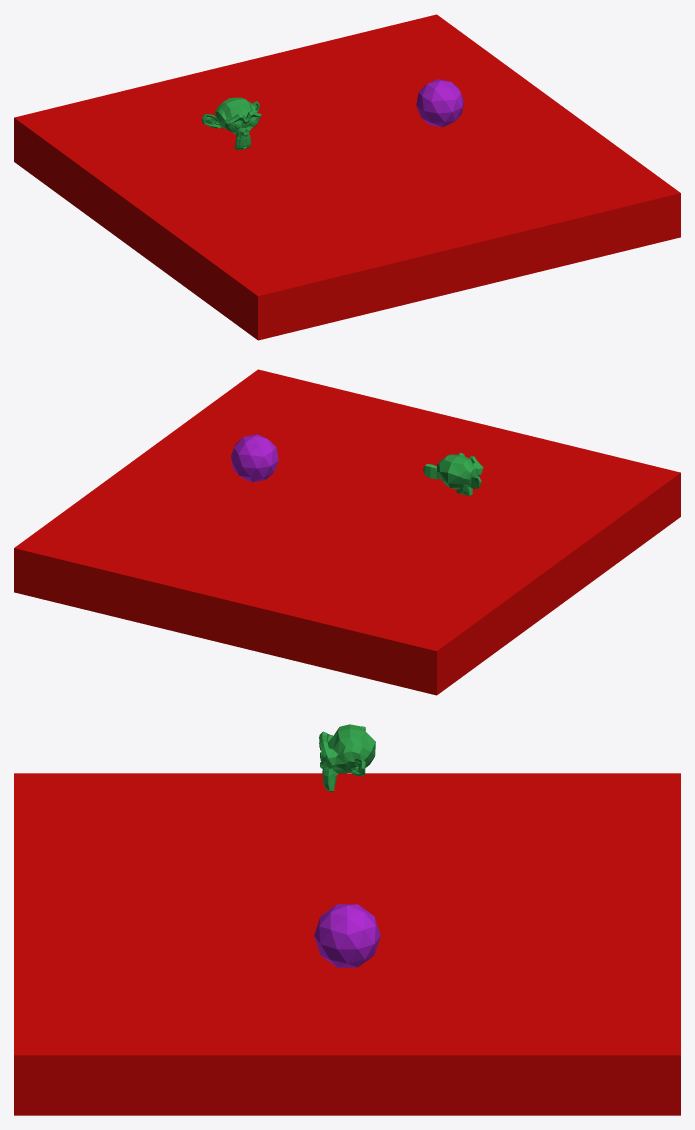
3 renders of one model, top to bottom at view 1: azimuth 30°, elevation 25°; view 2: azimuth 150°, elevation 25°; view 3: azimuth 270°, elevation 25°, orthographic. The views are drawn at different scales.
Visible parts, largest first — view 1: Cube_Cube.001, Icosphere, Suzanne; view 2: Cube_Cube.001, Icosphere, Suzanne; view 3: Cube_Cube.001, Icosphere, Suzanne.
Part boxes in pixels (x1,y1,x2,y2): Cube_Cube.001: [14, 14, 680, 340]; Icosphere: [416, 79, 463, 127]; Suzanne: [201, 97, 261, 149]; Cube_Cube.001: [14, 369, 680, 695]; Icosphere: [231, 434, 278, 482]; Suzanne: [423, 452, 483, 495]; Cube_Cube.001: [14, 773, 680, 1115]; Icosphere: [314, 904, 380, 967]; Suzanne: [319, 724, 375, 791].
Size of the model in its own units: 20 by 5.68 by 20.
